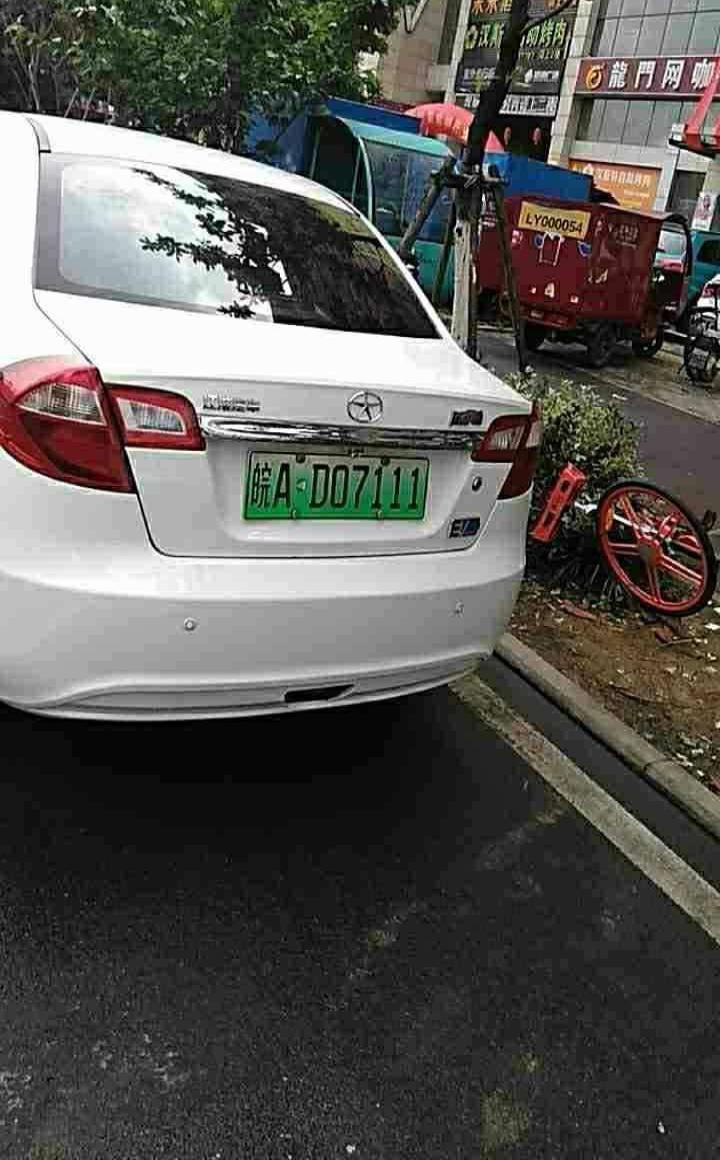car: (251, 450, 432, 528)
